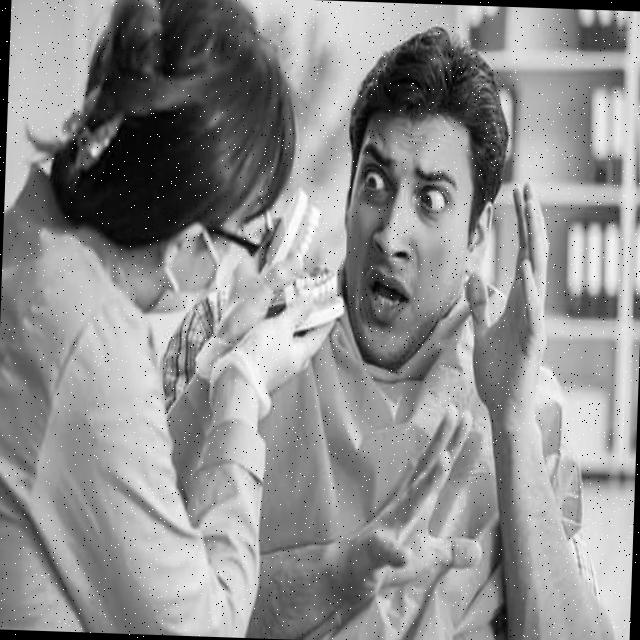Fear: (340, 109, 474, 370)
